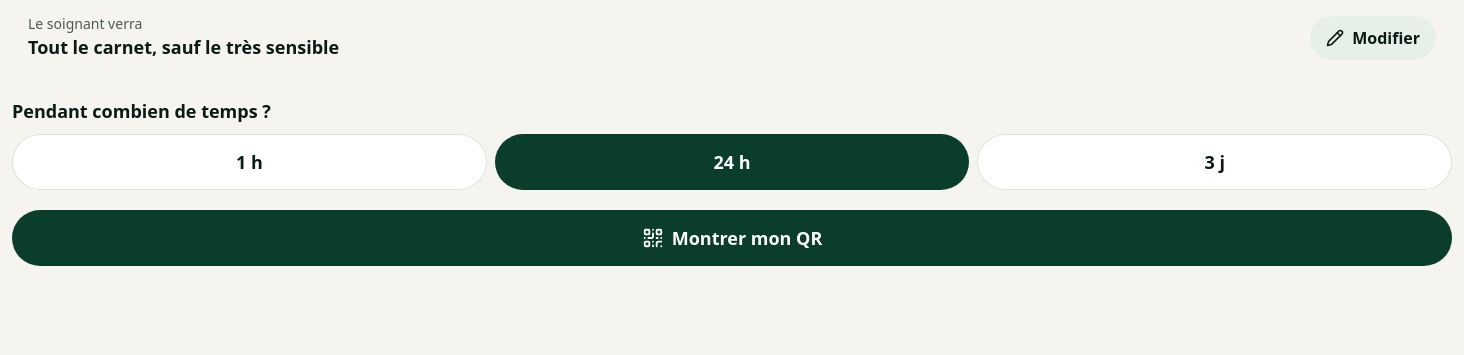
Test: partage › annonce le refus de l’API tel quel
This screenshot has width=1464, height=355.
Step 1. Click the button "Montrer mon QR" → x=732, y=238, box x1=12 y1=210 x2=1452 y2=266
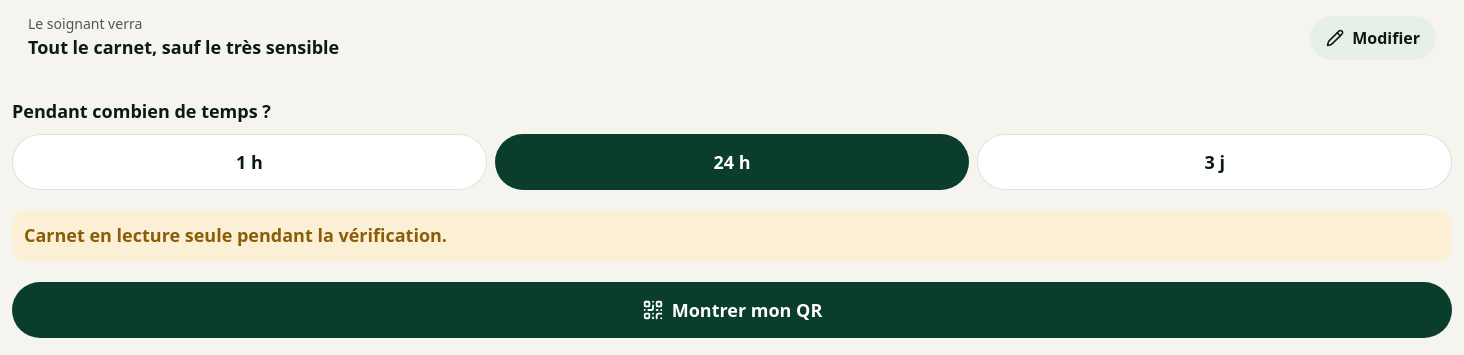
Expected: the button "Montrer mon QR" is enabled, x1=12 y1=282 x2=1452 y2=338
Now the message reads "Carnet en lecture seule pendant la vérification.", box x1=24 y1=223 x2=447 y2=247
